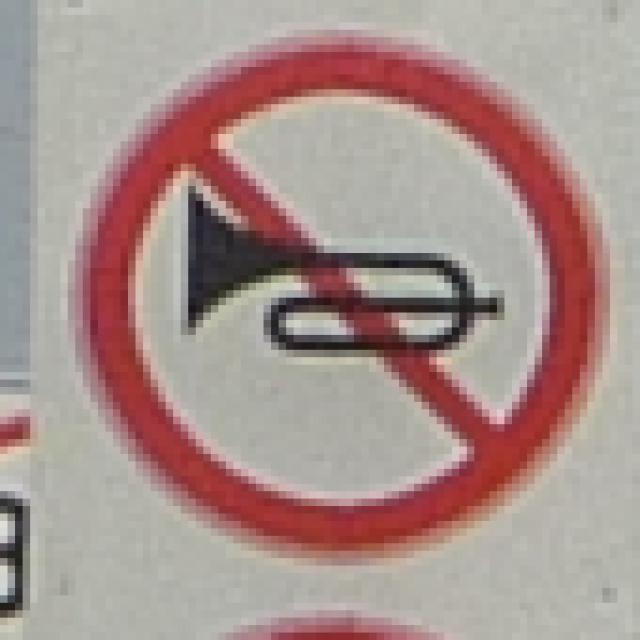No Horn: (64, 49, 605, 552)
